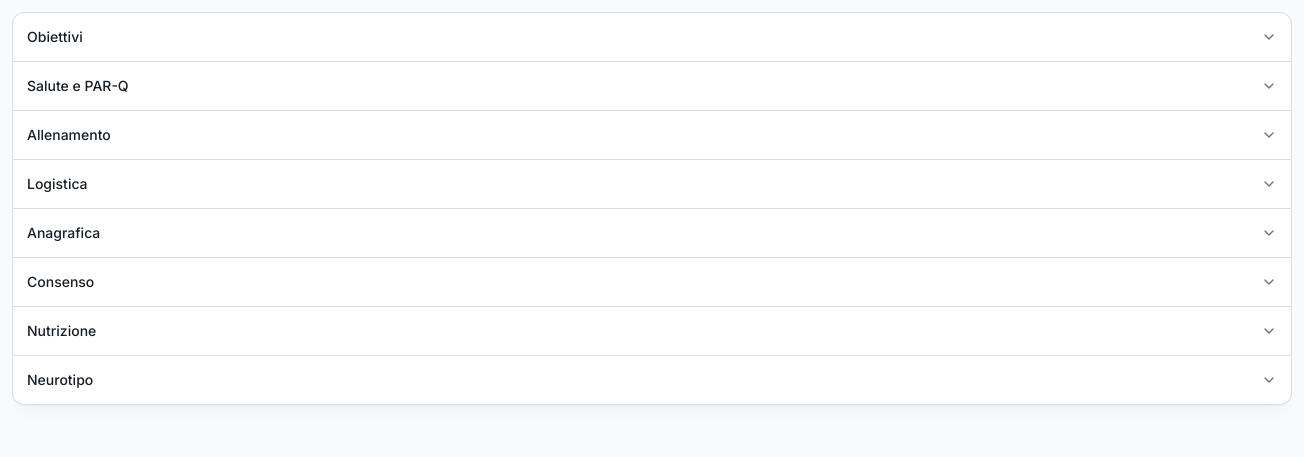
Test: linguetta Intervista — il gruppo Neurotipo dice QUALE dei quattro casi e › caricamento: dice che sta leggendo, non che manca
Step 1. Click the button "Neurotipo" → [60, 380], box [13,356,1291,404]
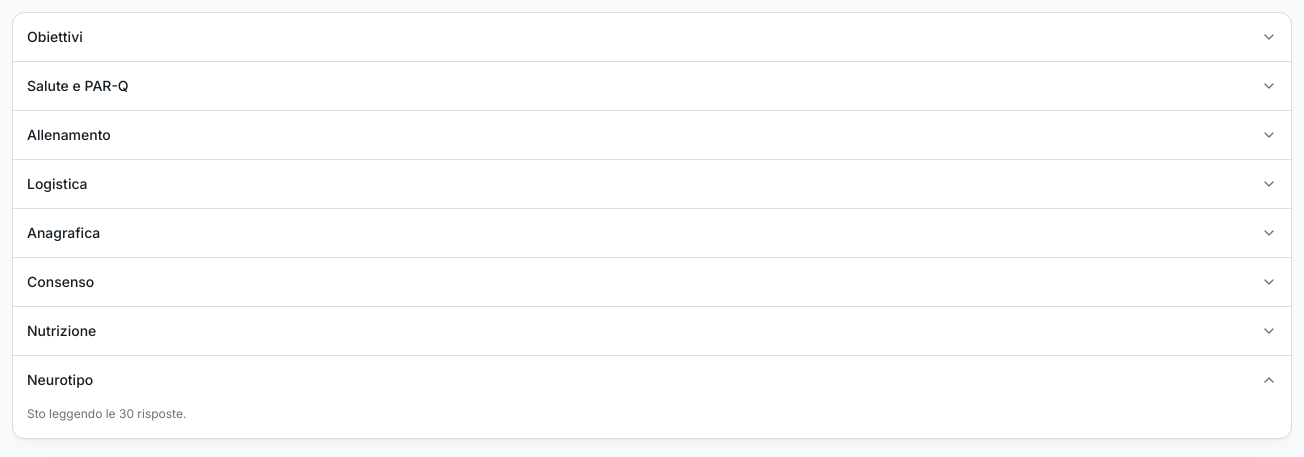
Check: the text "Sto leggendo le 30 risposte." is shown, box [27,406,186,421]
